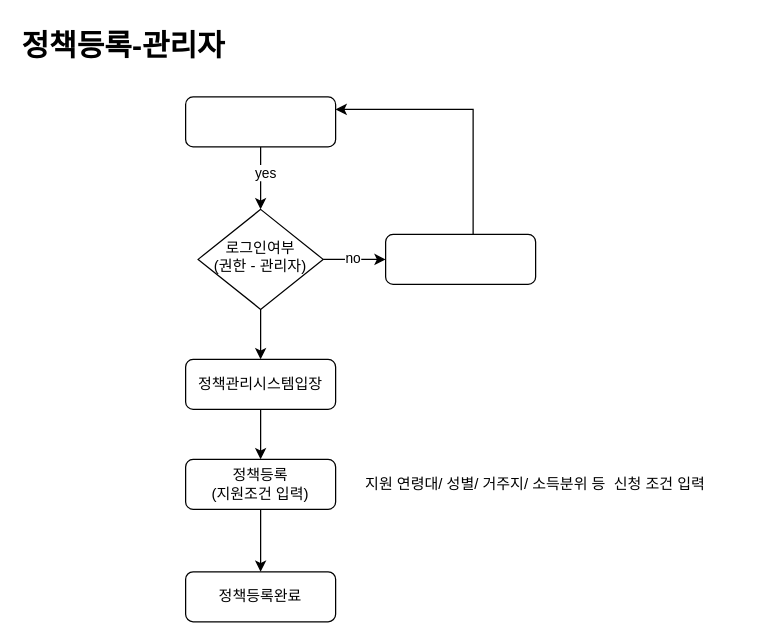
This 758x644 diagram has some shape labels left out. Here are the shapes that lost their labels. From the top down, the box of each, then its label:
(184, 96, 336, 147): 홈화면
(384, 233, 536, 284): 회원가입
